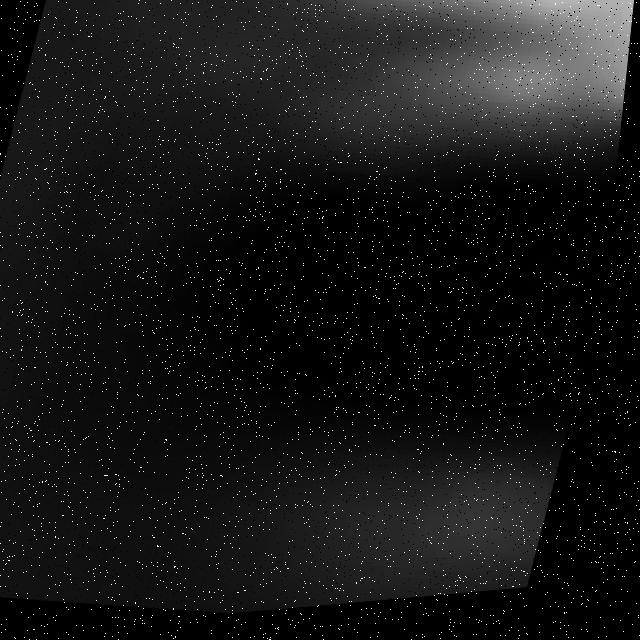person: (226, 1, 640, 182)
